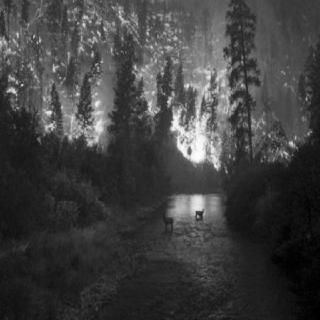Fire: (2, 2, 308, 168)
